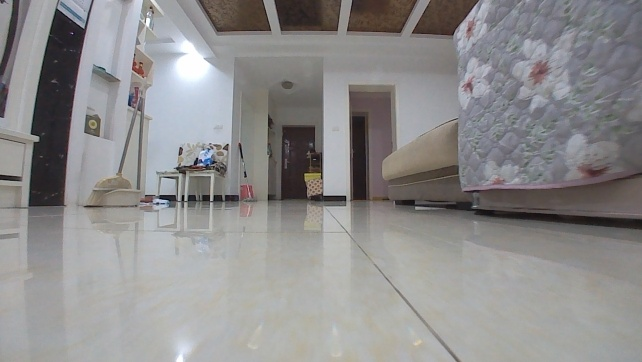door_anno: (279, 123, 316, 204)
sofa1: (379, 0, 641, 224)
